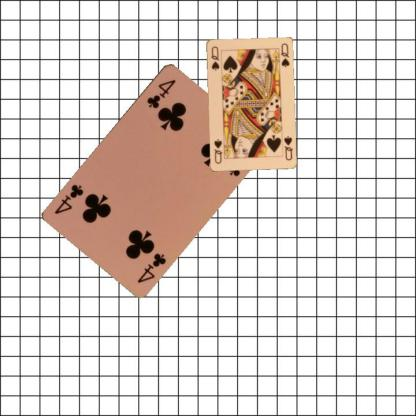4c: (144, 76, 177, 110), (134, 250, 167, 284)
Qs: (282, 133, 294, 161), (209, 43, 220, 72)
